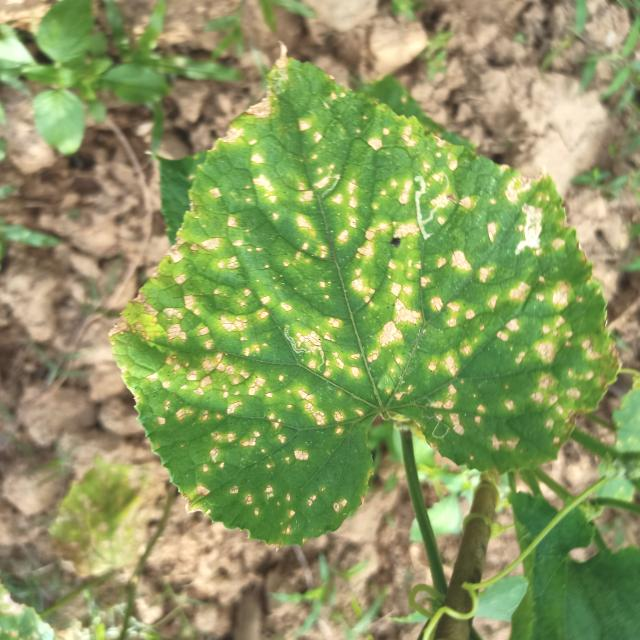disease_cucumber: (134, 102, 578, 516)
